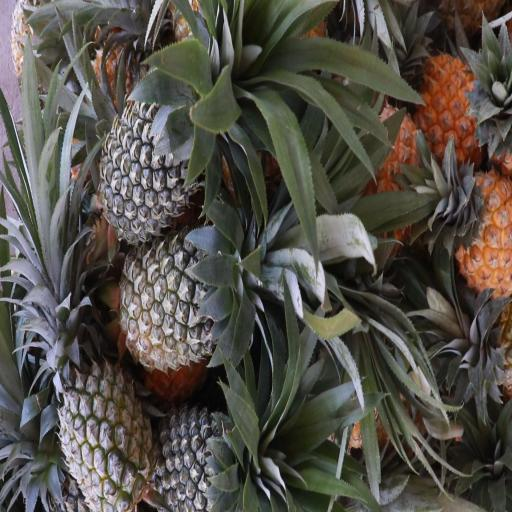------------------------------: (121, 240, 245, 372), (59, 360, 152, 512)
Pineapple - v8 v1: (422, 57, 503, 167), (448, 166, 512, 300)
